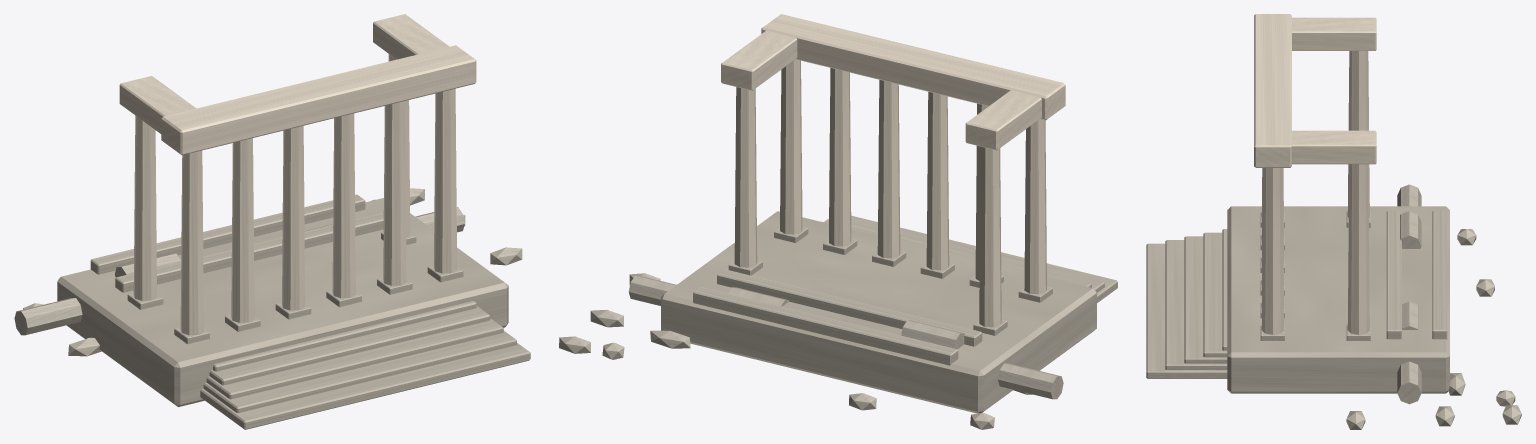
The model's file is roman-forum.glb.
3 renders of one model, left to right at view 1: azimuth 30°, elevation 25°; view 2: azimuth 150°, elevation 25°; view 3: azimuth 270°, elevation 25°, orthographic. The views are drawn at different scales.
Parts seen in each view (by area): view 1: roman-forum; view 2: roman-forum; view 3: roman-forum.
Part boxes in pixels (left/top/right/bottom): roman-forum: left=14, top=14, right=530, bottom=429; roman-forum: left=559, top=14, right=1117, bottom=429; roman-forum: left=1146, top=14, right=1521, bottom=429.
Bounding box in the file's own units: 9.88 × 5.35 × 7.42.
1 material, 1 textured.
